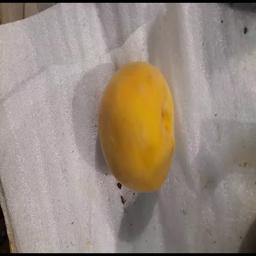Peach Fresh: (90, 49, 182, 209)
